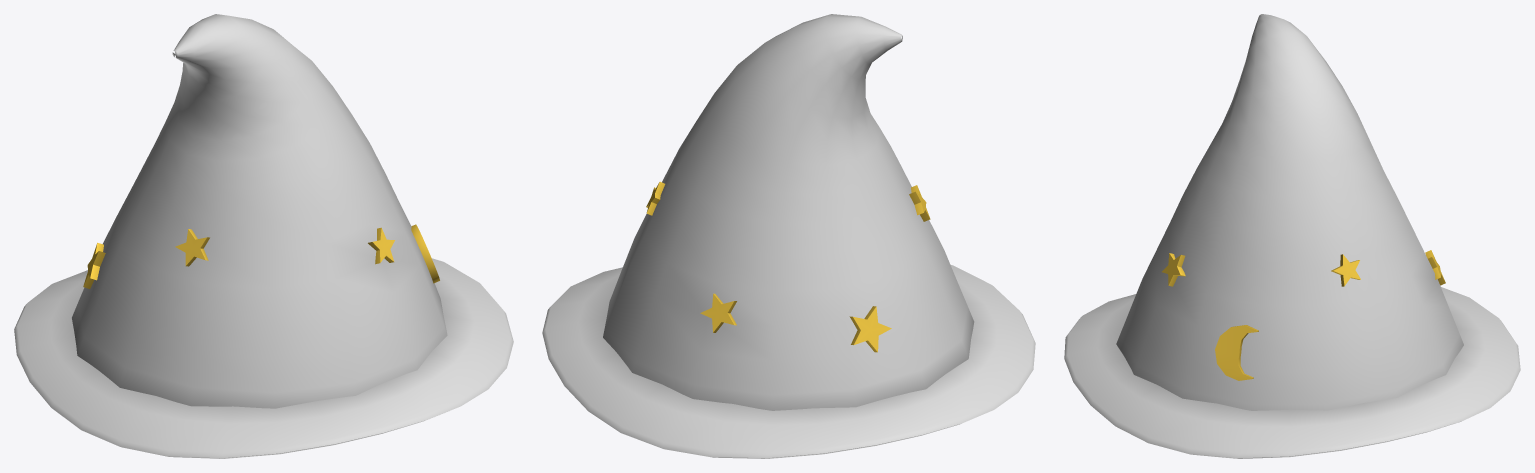
File: acc_wizard.glb
3 views of the same model, side by side, from view 1: azimuth 30°, elevation 25°; view 2: azimuth 150°, elevation 25°; view 3: azimuth 270°, elevation 25° (orthographic). The views are drawn at different scales.
Visible parts, largest first — view 1: acc_wizard; view 2: acc_wizard; view 3: acc_wizard.
Boxes of the visible parts, x1,y1,x2,y2 form: acc_wizard: (14,14,513,458); acc_wizard: (542,14,1035,458); acc_wizard: (1064,14,1520,458).
Size of the model in its own units: 0.811 by 0.644 by 0.811.
